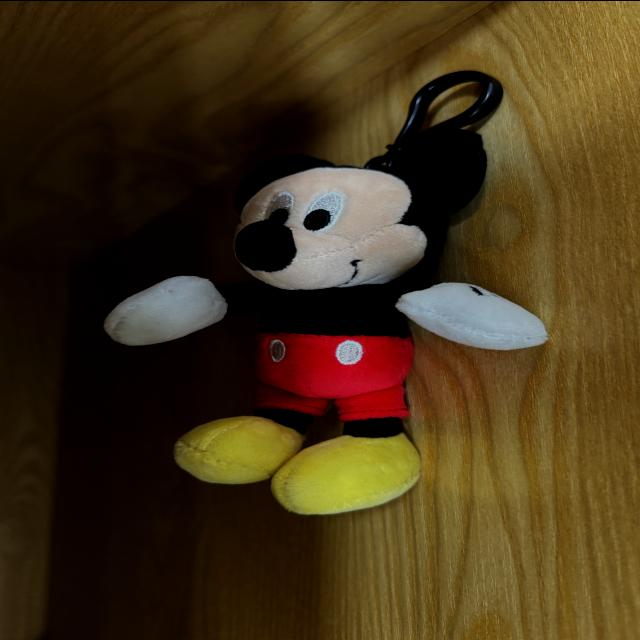mickey: (105, 128, 547, 513)
